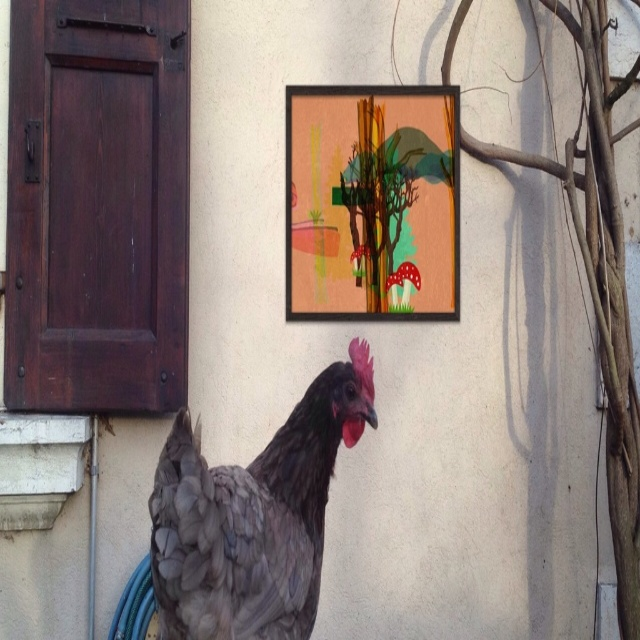Chicken: (139, 339, 373, 632)
